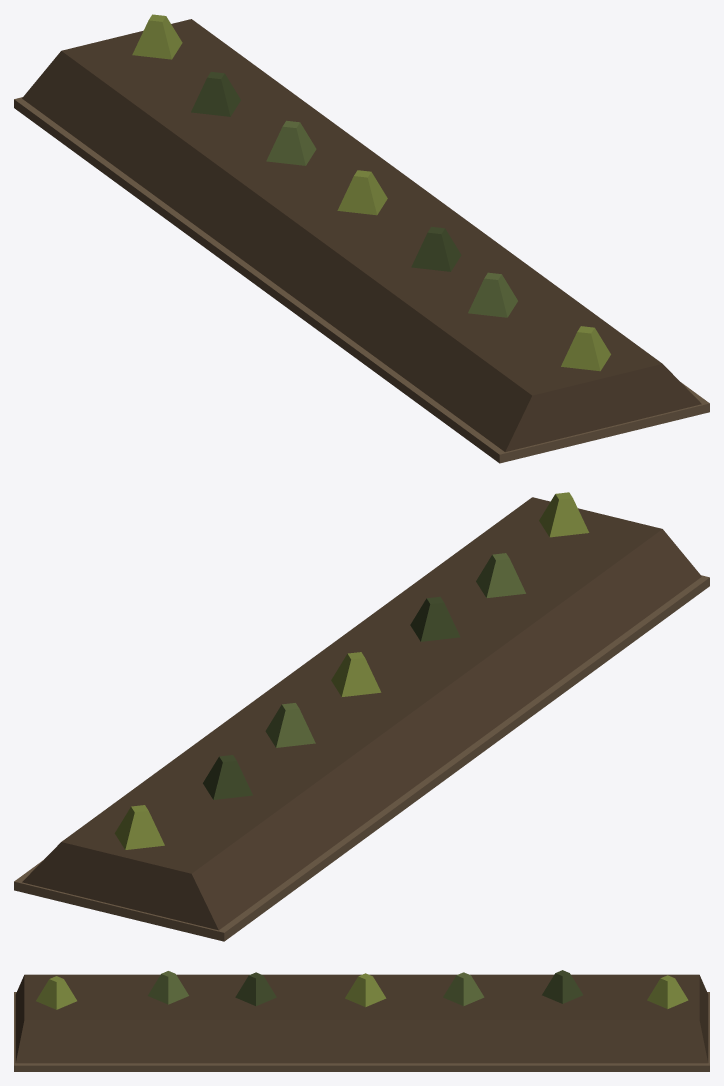
Rendered from crop_herbs_s1.glb.
3 views of the same model, one above another, from view 1: azimuth 30°, elevation 25°; view 2: azimuth 150°, elevation 25°; view 3: azimuth 270°, elevation 25° (orthographic). The views are drawn at different scales.
Visible parts, largest first — view 1: crop_herbs_s1_mesh; view 2: crop_herbs_s1_mesh; view 3: crop_herbs_s1_mesh.
Boxes of the visible parts, x1,y1,x2,y2 form: crop_herbs_s1_mesh: (14, 14, 709, 463); crop_herbs_s1_mesh: (14, 492, 709, 941); crop_herbs_s1_mesh: (14, 970, 709, 1071).
Size of the model in its own units: 0.5 by 0.19 by 2.
